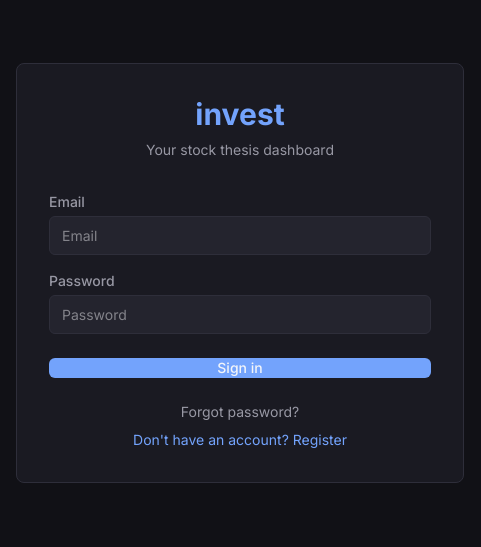
Test: Login › shows resend-verification path when backend returns email_not_verified
Type "d@example.com" into the field with placeholder "Email" at (240, 236), box x1=49 y1=216 x2=431 y2=255
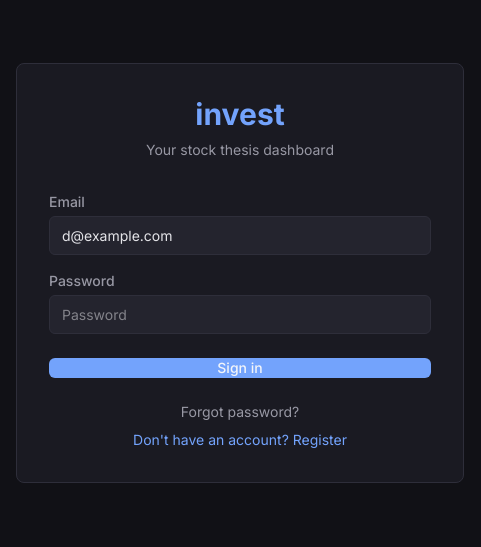
Type "testpass123" into the password field with placeholder "Password" at (240, 314), box x1=49 y1=295 x2=431 y2=334
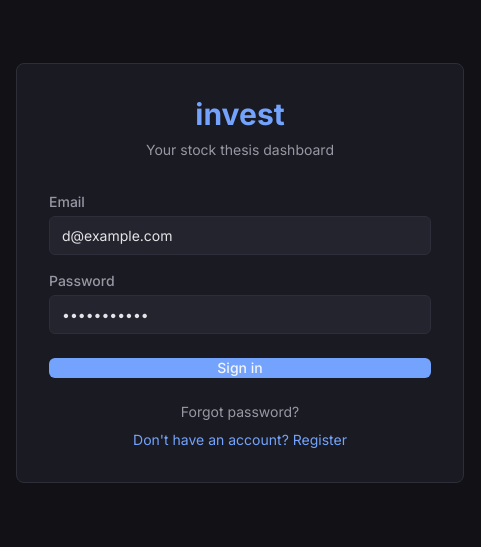
Click the button "Sign in" at (240, 368), box x1=49 y1=358 x2=431 y2=378
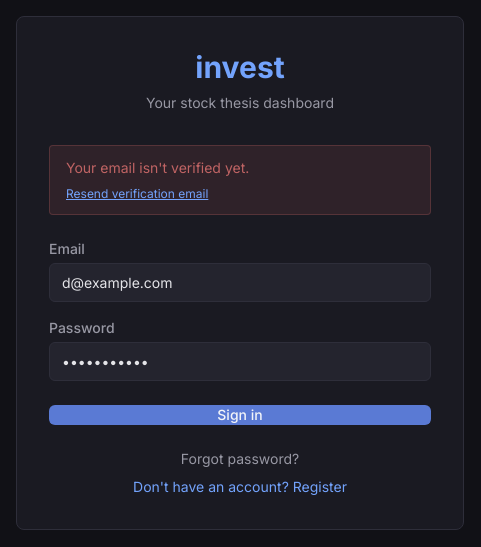
Check: the text "Your email isn't verified yet. Resend verification email" is shown, box x1=49 y1=145 x2=431 y2=215
Check: the button "Resend verification email" is shown, box x1=66 y1=186 x2=208 y2=202
